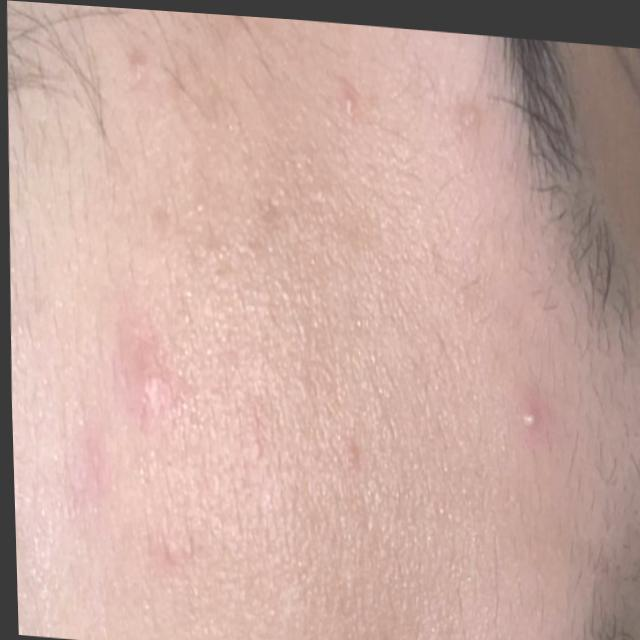papule: (40, 316, 242, 638)
pustule: (495, 395, 550, 436), (322, 80, 367, 115)
